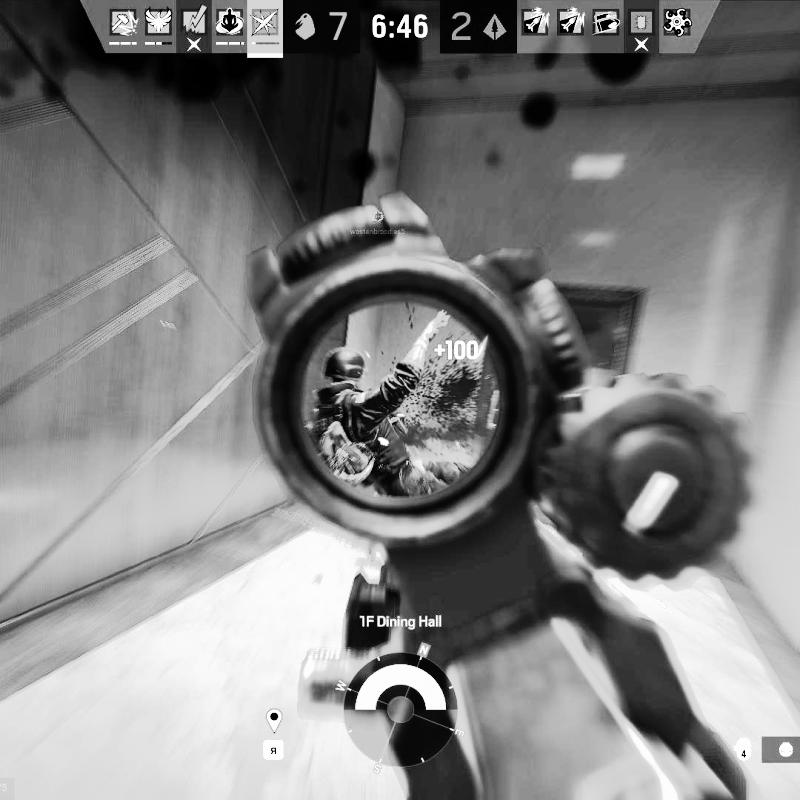Character: (314, 306, 474, 502)
Head: (322, 347, 367, 385)
